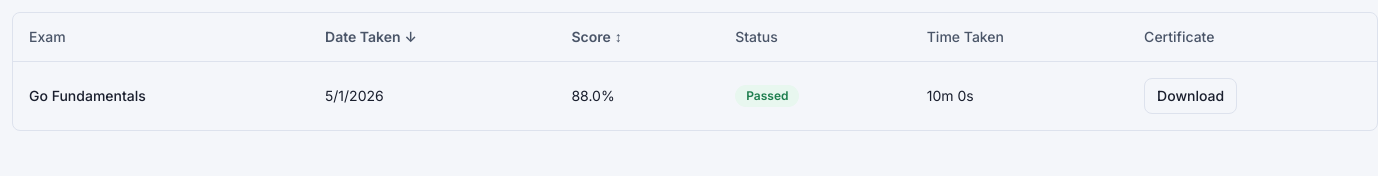
Test case: ResultsTable certificate download › uses a Bearer-capable fetch to the portal endpoint and shows an error on failure
Click the button "Download". click: [1191, 96]
box: [1144,78,1237,114]
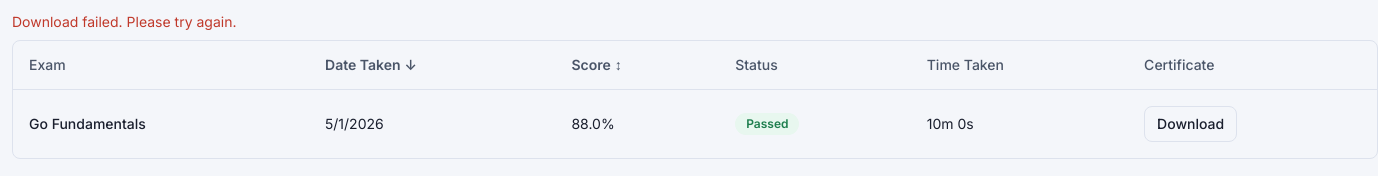
Check: the message shows "Download failed", box [12,13,236,30]
